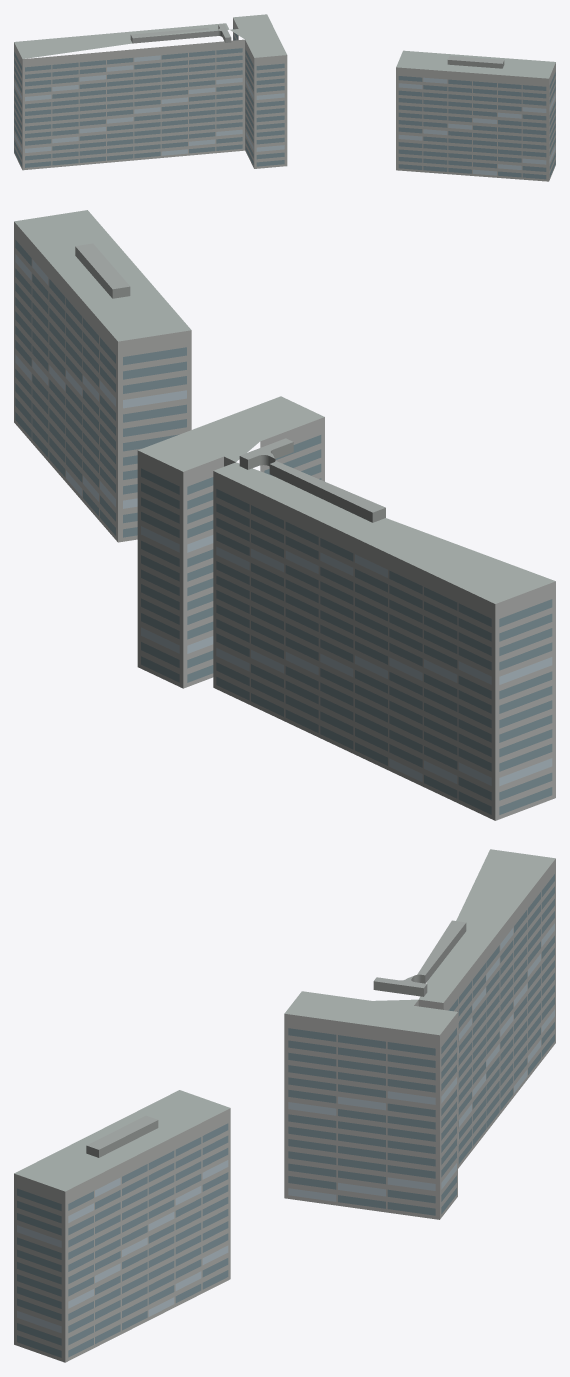
Rendered from apt-a15786104.glb.
The picture shows the model from 3 angles, top to bottom: view 1: azimuth 30°, elevation 25°; view 2: azimuth 150°, elevation 25°; view 3: azimuth 270°, elevation 25°; orthographic projection. The views are drawn at different scales.
Parts seen in each view (by area): view 1: apt-a15786104; view 2: apt-a15786104; view 3: apt-a15786104.
Boxes of the visible parts, bbox=[...] form: apt-a15786104: bbox=[14, 14, 555, 181]; apt-a15786104: bbox=[14, 210, 555, 820]; apt-a15786104: bbox=[14, 849, 555, 1362].
Size of the model in its own units: 150 by 41 by 104.
